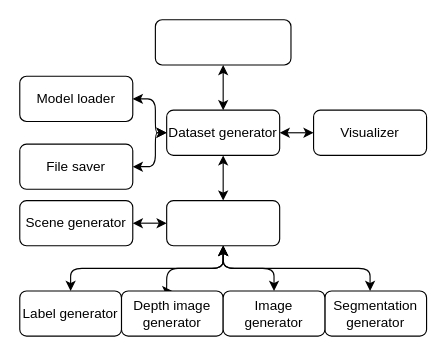
Image size: 446x356. Some labels were removed from this diagram. The shapes that lost their labels are listed below. From the top down, each one's box as (x1, y1, x2, y2) in pixels, then its label:
(154, 19, 291, 65): Main
(166, 199, 280, 246): Scene handler
